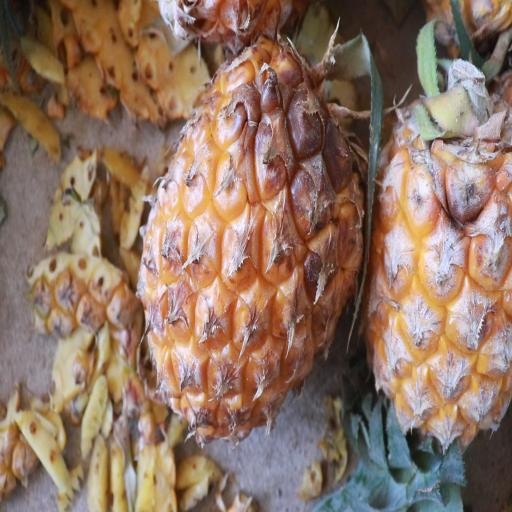Pineapple - v8 v1: (138, 32, 367, 448), (356, 47, 512, 461)
